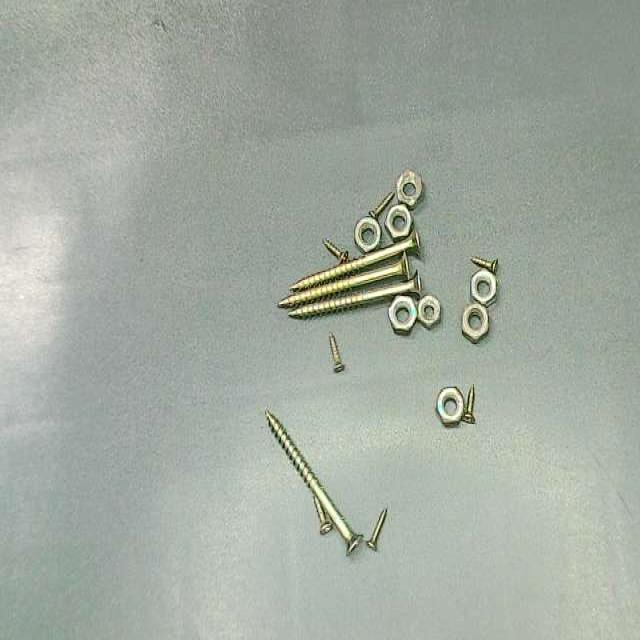Parafuso: (265, 411, 361, 554), (291, 231, 419, 293), (278, 254, 408, 306), (289, 272, 420, 318), (367, 508, 386, 550), (313, 498, 332, 534), (368, 192, 393, 219), (323, 239, 348, 263), (329, 334, 344, 373), (470, 256, 497, 274), (462, 386, 475, 423)
Porca: (388, 296, 416, 334), (436, 387, 463, 426), (462, 303, 489, 342), (396, 170, 422, 210), (385, 204, 412, 242), (354, 216, 380, 253), (470, 270, 496, 306), (418, 295, 440, 329)
